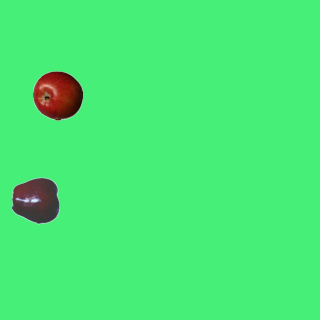Apple Braeburn: (32, 70, 82, 120)
Apple Red Delicious: (11, 175, 61, 225)
